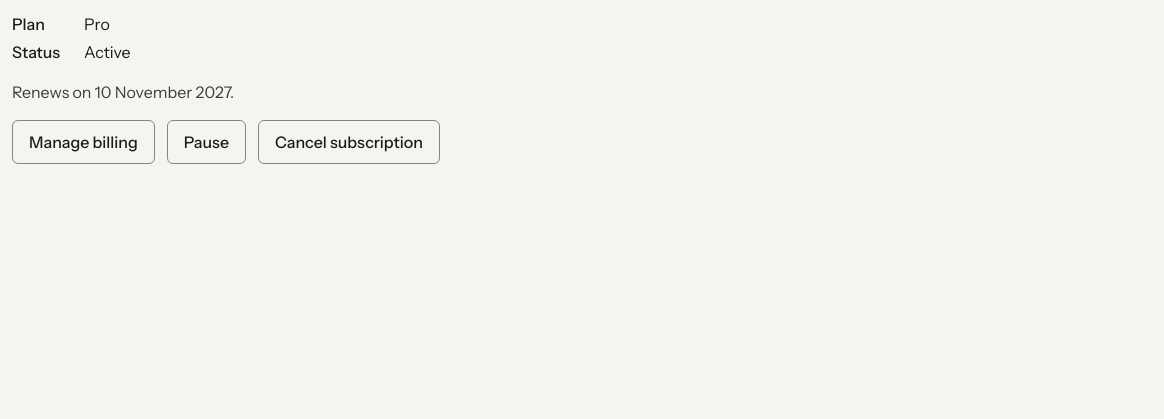
Test: the account’s billing section › offers a pause before cancelling, and lets the learner carry on to cancel
The width and height of the screenshot is (1164, 419).
expect the text "Renews on 10 November 2027." is shown: met, box [12,82,234,102]
Click the button "Cancel subscription" at (349, 142), box [258,120,440,164]
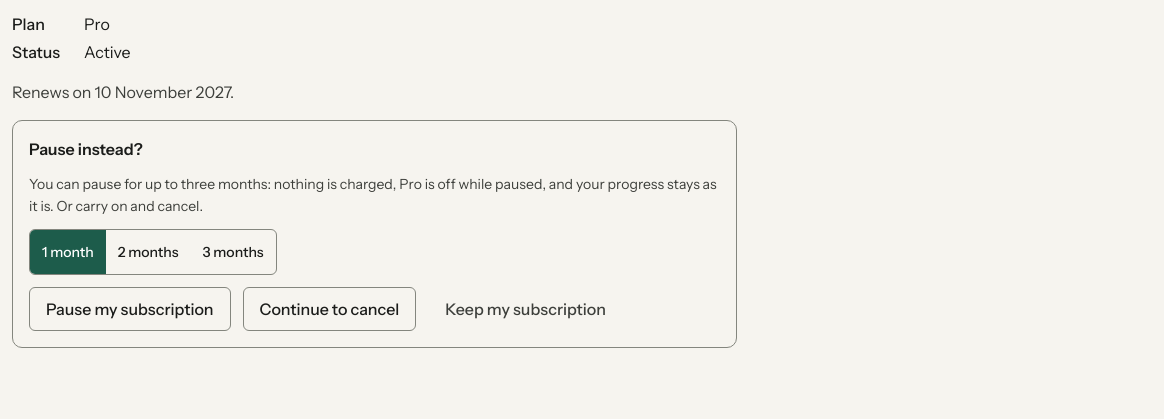
expect the button "Continue to cancel" is shown: met, box [242,287,416,331]
Click the radio button labelled "2 months" at (148, 252), box [118,243,179,261]
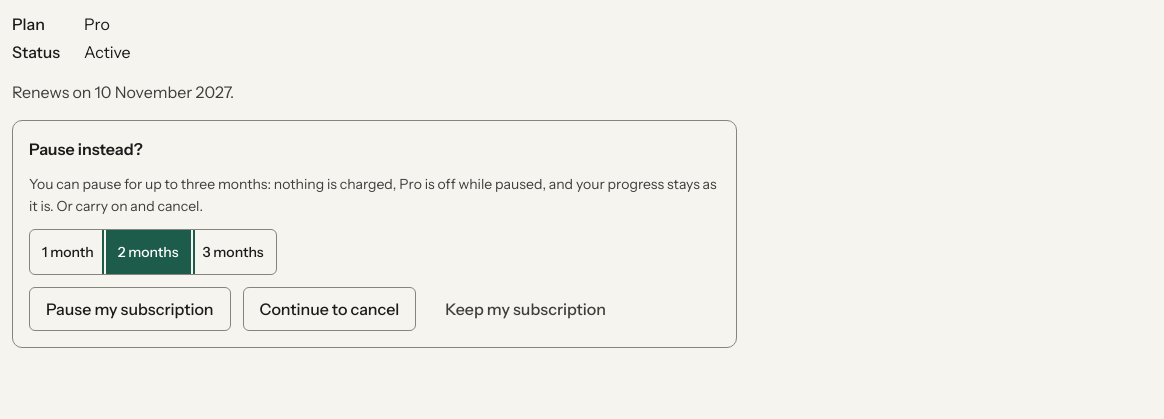
Click the button "Pause my subscription" at (130, 309), box [29,287,230,331]
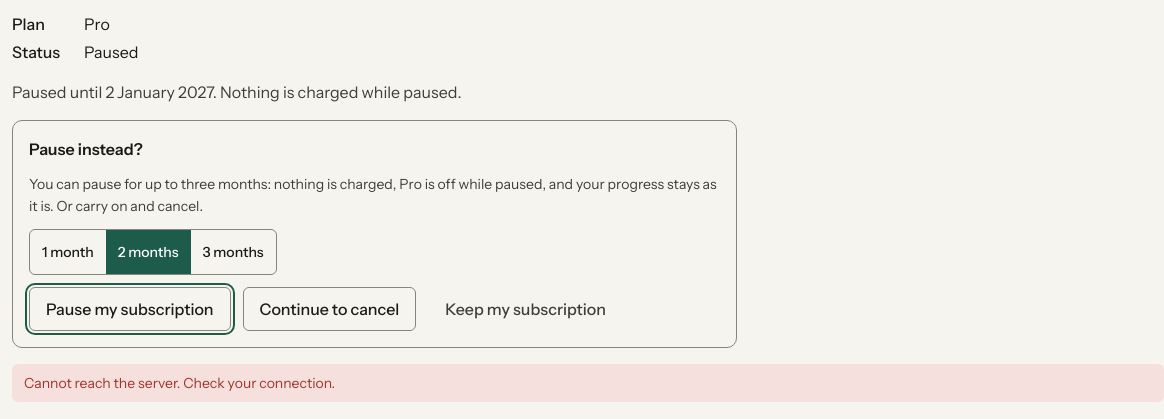
expect the text "Paused until 2 January 2027" is shown: met, box [12,82,462,102]
